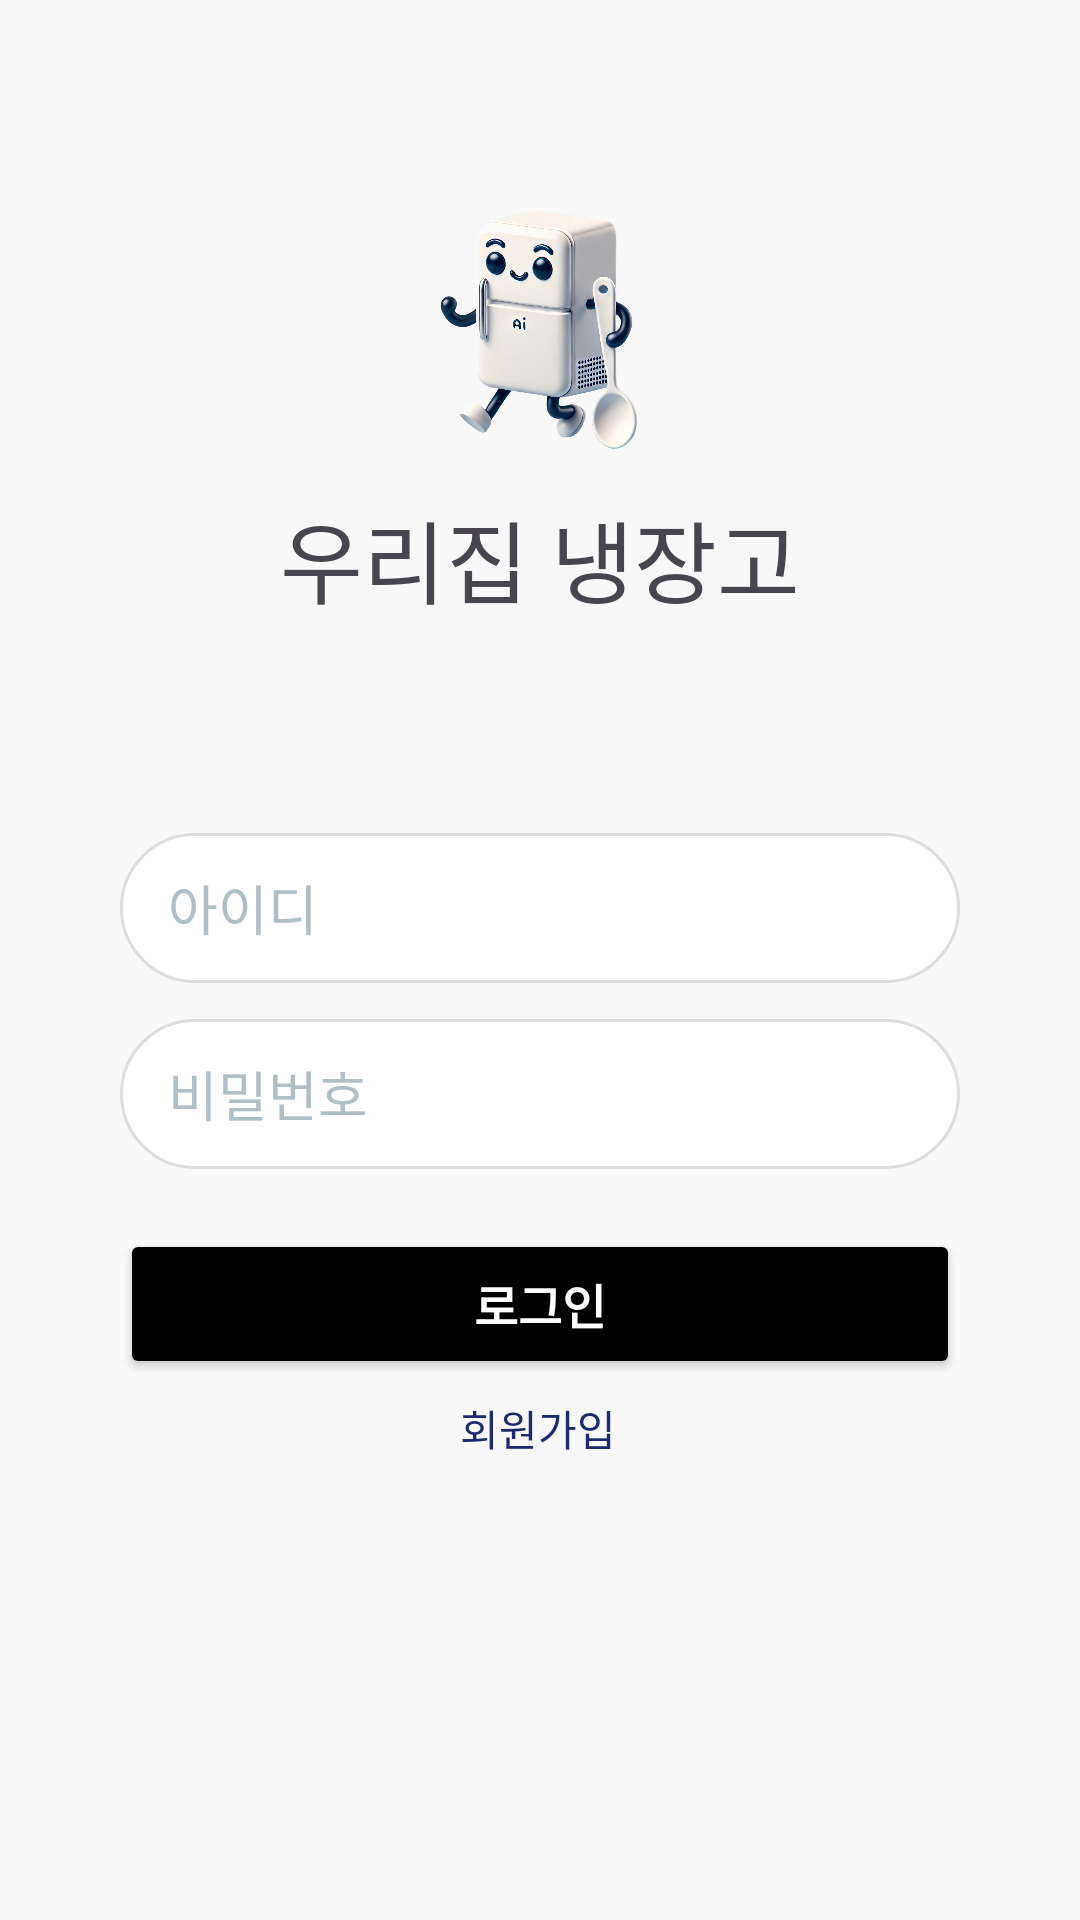

Icons on this 1080×1920 Android screen, each with its box as (x1, y1, x2, y2):
character: (441, 221, 637, 449)
